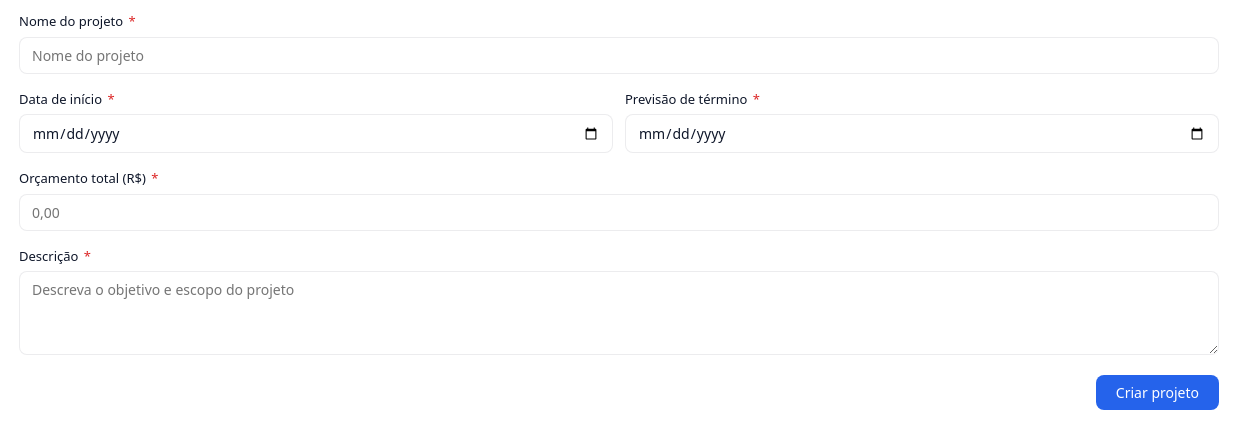
Test: ProjectForm › botão de submit mostra estado de loading durante a requisição
The width and height of the screenshot is (1239, 427).
Type "Projeto Teste" into the field labelled "Nome do projeto *" at {"x": 619, "y": 55}, box [19,36,1219,74]
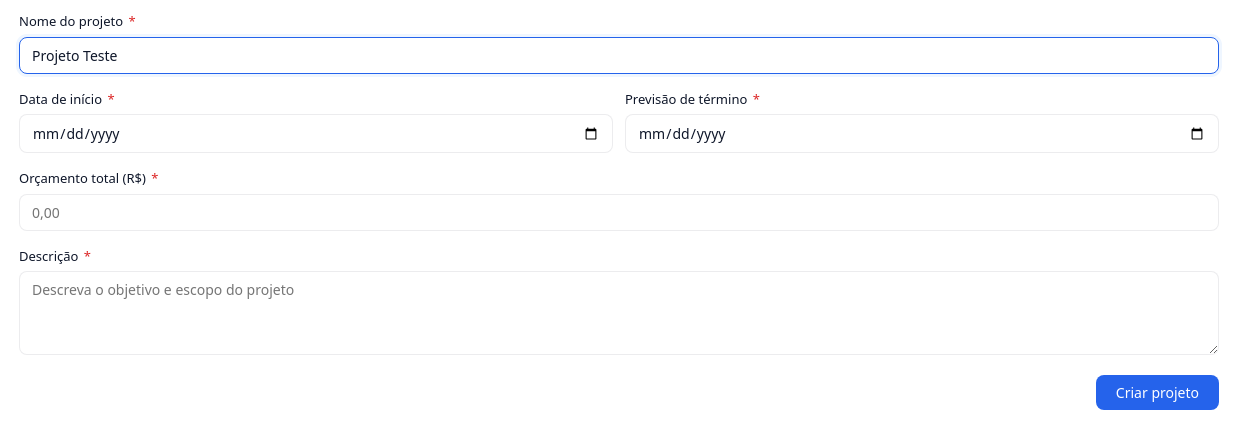
Type "2024-01-01" into the date field labelled "Data de início *" at {"x": 316, "y": 134}, box [19,114,613,153]
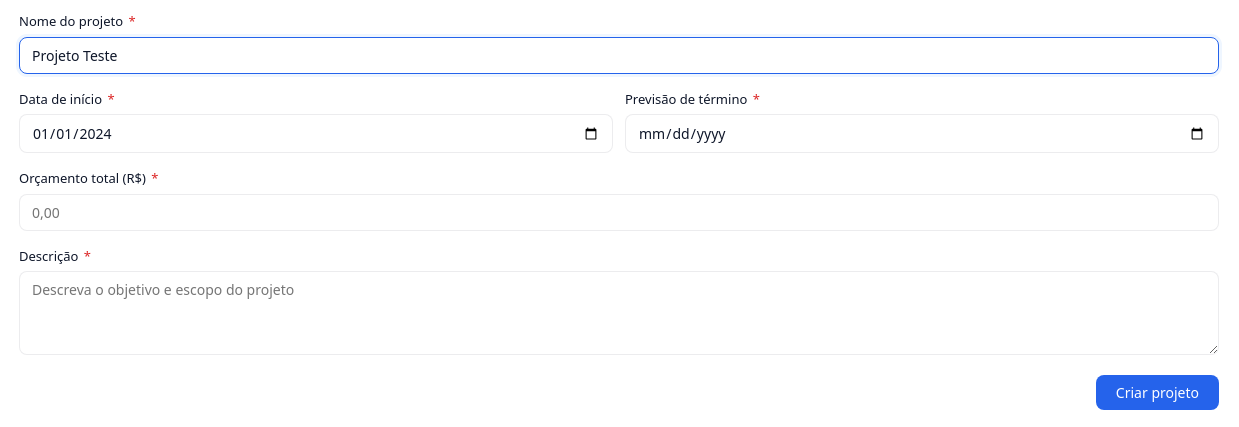
Type "2024-06-01" into the date field labelled "Previsão de término *" at {"x": 922, "y": 134}, box [625,114,1219,153]
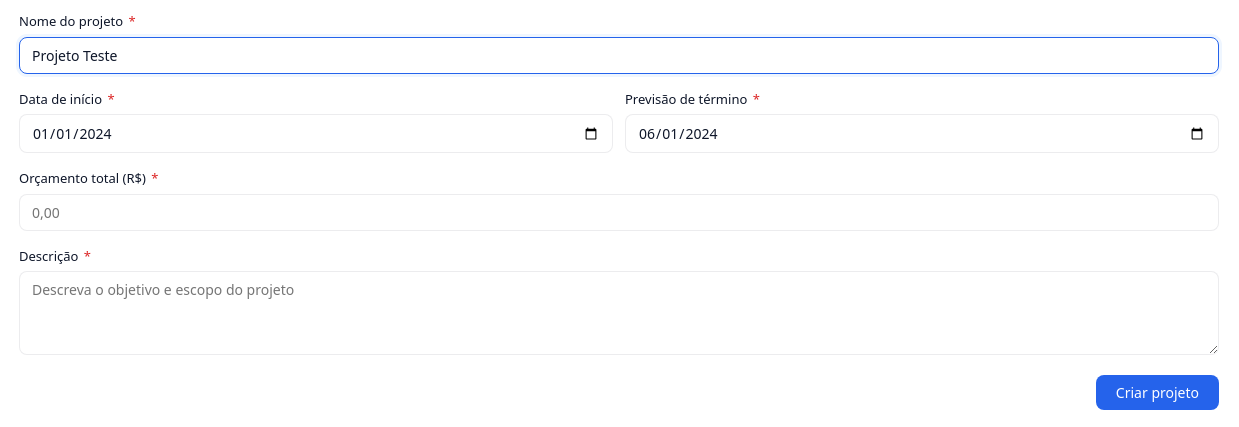
Type "100000" into the number field labelled "Orçamento total (R$) *" at {"x": 619, "y": 212}, box [19,194,1219,230]
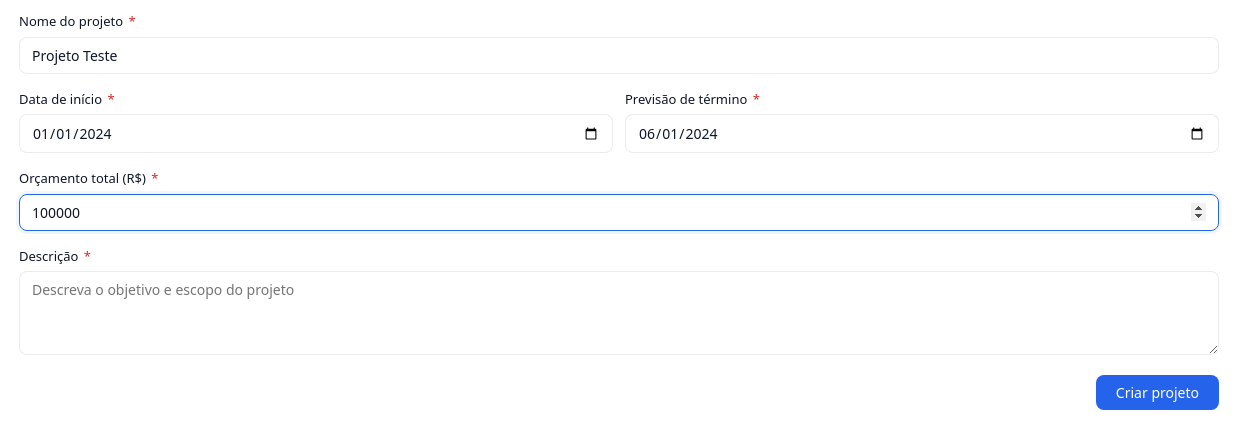
Type "Descrição válida" into the text box labelled "Descrição *" at {"x": 619, "y": 313}, box [19,271,1219,355]
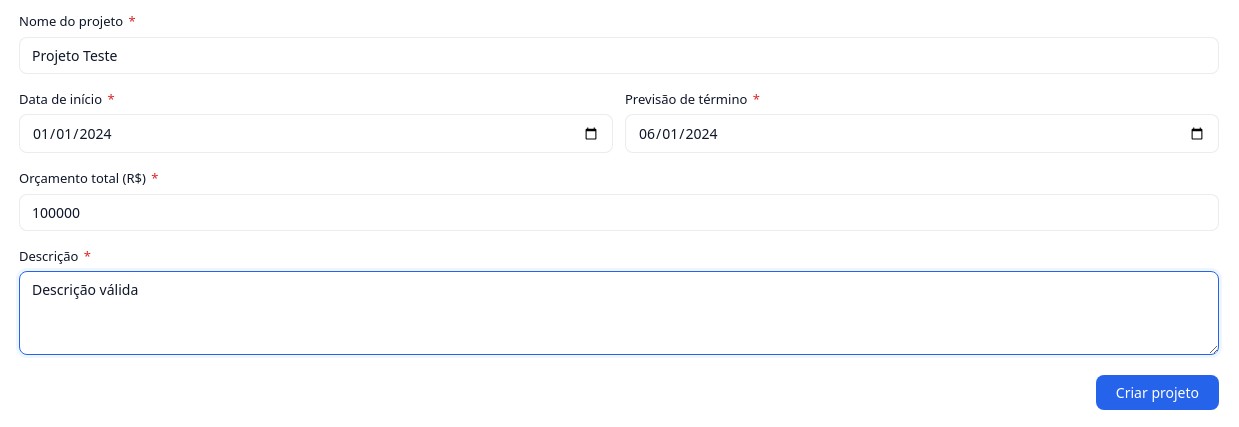
Click the button "Criar projeto" at {"x": 1157, "y": 392}, box [1096,375,1219,410]
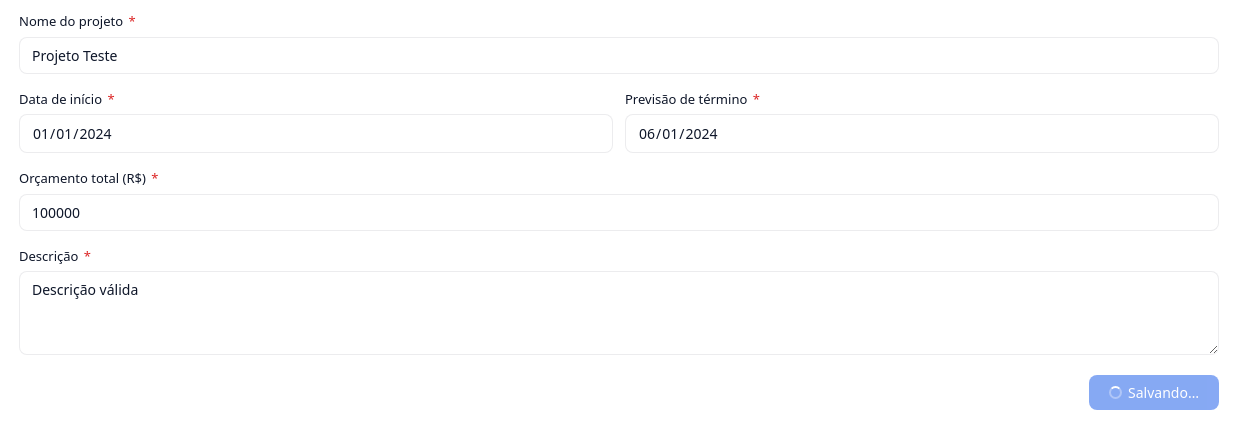
Expected: the button "Salvando…" is disabled, [1089,375,1219,410]
